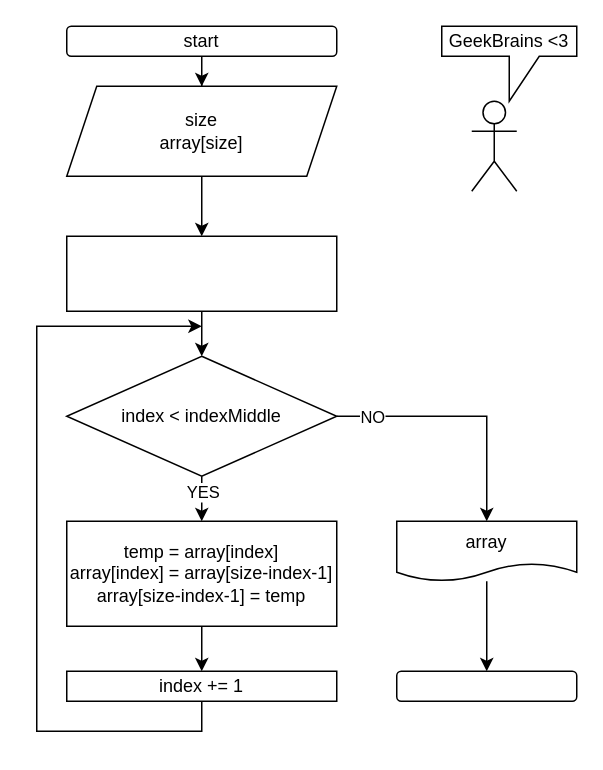
Image size: 603x770. Some labels were removed from this diagram. Here are the shapes that lost their labels. From the top down, the box of each, then its label:
(470, 100, 517, 191): Александр YodaXD
(65, 235, 337, 311): index = 0 indexMiddle = size // 2 + 1
(395, 670, 577, 701): end
